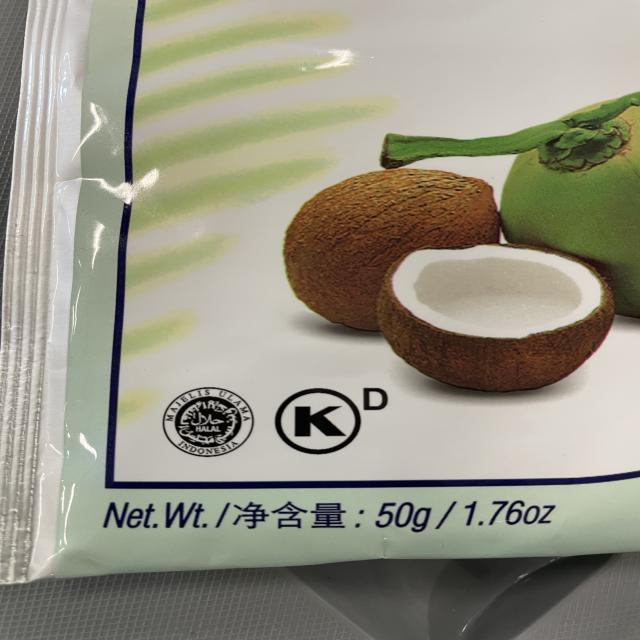object_name: (21, 0, 637, 562)
